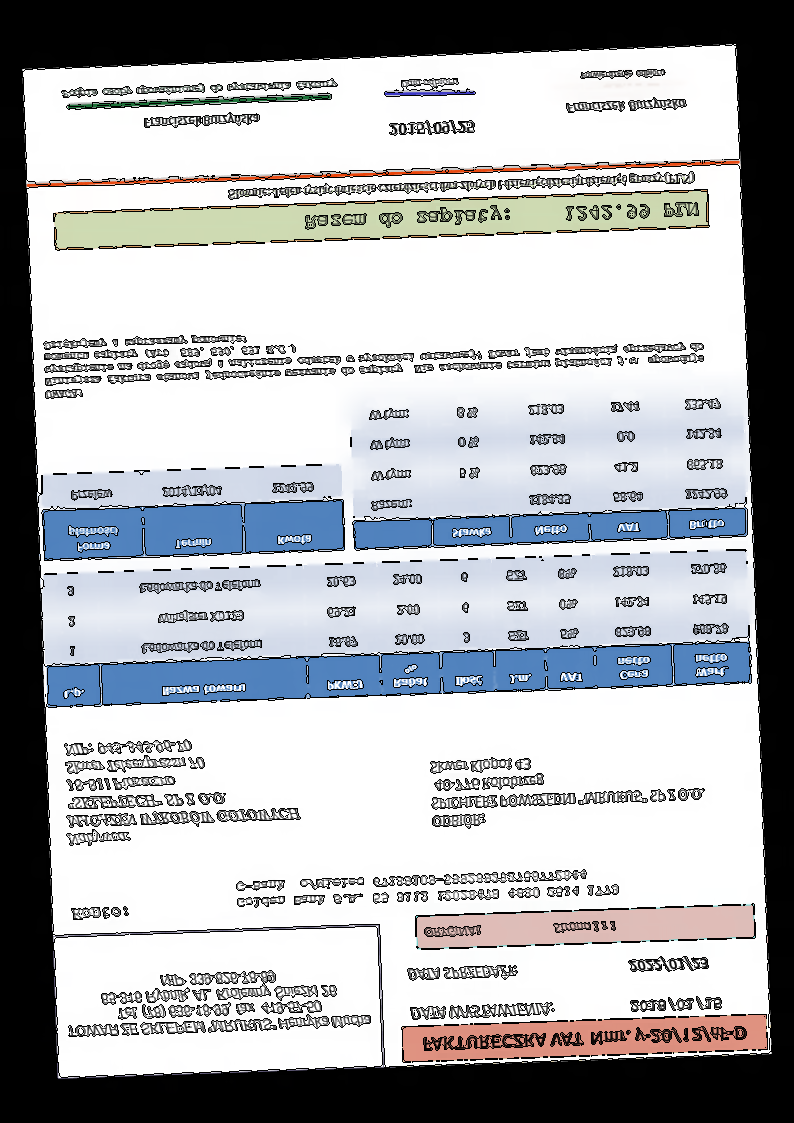Table: (42, 548, 752, 708), (348, 384, 749, 551), (40, 462, 344, 563)
TextBox: (41, 316, 707, 401), (62, 734, 302, 847), (63, 964, 374, 1042), (428, 749, 706, 832), (235, 865, 621, 911), (302, 197, 699, 234), (227, 171, 695, 202), (419, 1023, 747, 1056), (60, 77, 338, 101), (421, 917, 618, 941), (408, 1000, 556, 1024), (564, 95, 687, 115), (405, 963, 520, 984), (141, 111, 260, 131), (628, 994, 722, 1014), (387, 119, 476, 138), (626, 955, 712, 974), (578, 67, 667, 82), (69, 904, 130, 924), (398, 75, 460, 91)
